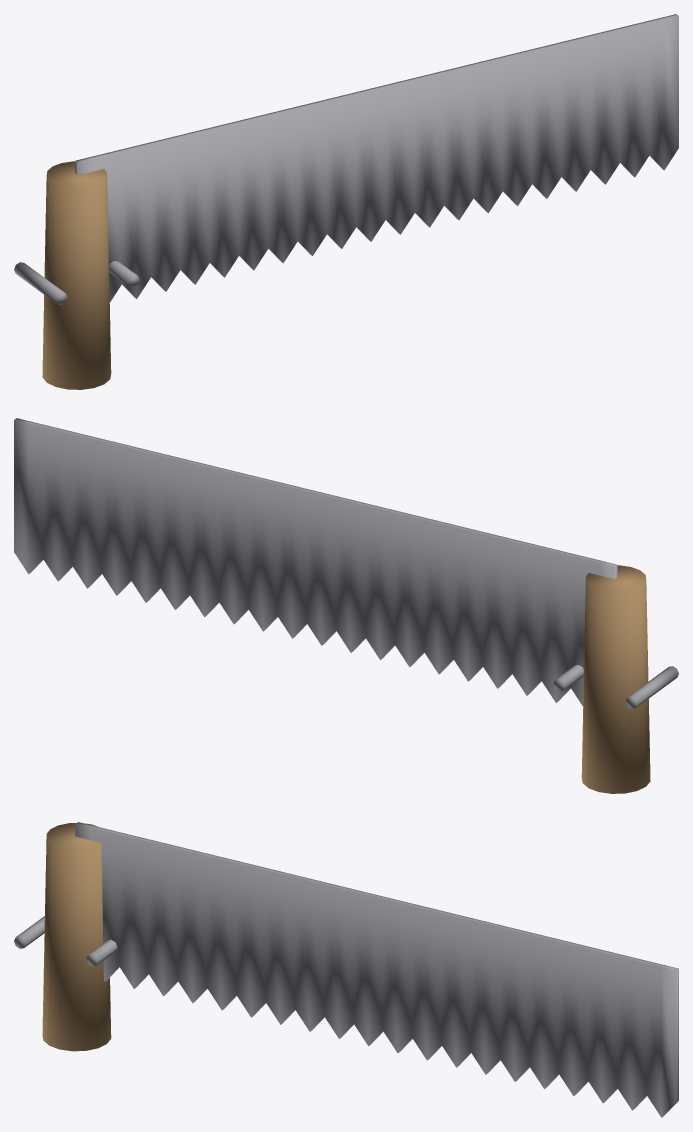
Rendered from saw.glb.
3 views of the same model, one above another, from view 1: azimuth 30°, elevation 25°; view 2: azimuth 150°, elevation 25°; view 3: azimuth 330°, elevation 25° (orthographic).
Parts seen in each view (by area): view 1: saw; view 2: saw; view 3: saw.
Boxes of the visible parts, <box> form: saw: <box>14,14,678,389</box>; saw: <box>14,418,678,793</box>; saw: <box>14,822,678,1117</box>.
Bounding box in the file's own units: 0.535 × 0.17 × 0.06.
